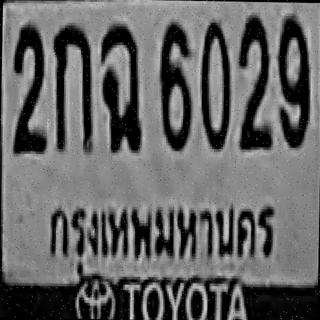A01: (51, 22, 93, 152)
A09: (98, 22, 142, 152)
N00: (199, 20, 230, 149)
N02: (236, 13, 273, 148), (10, 23, 46, 152)
N06: (158, 20, 192, 150)
N09: (274, 13, 310, 145)
P04: (39, 189, 289, 282)
